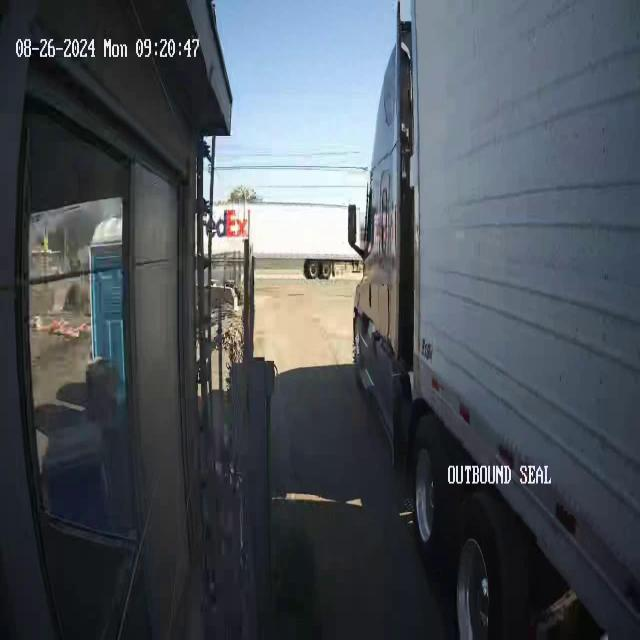TRUCK_CONTAINER: (348, 0, 639, 638)
